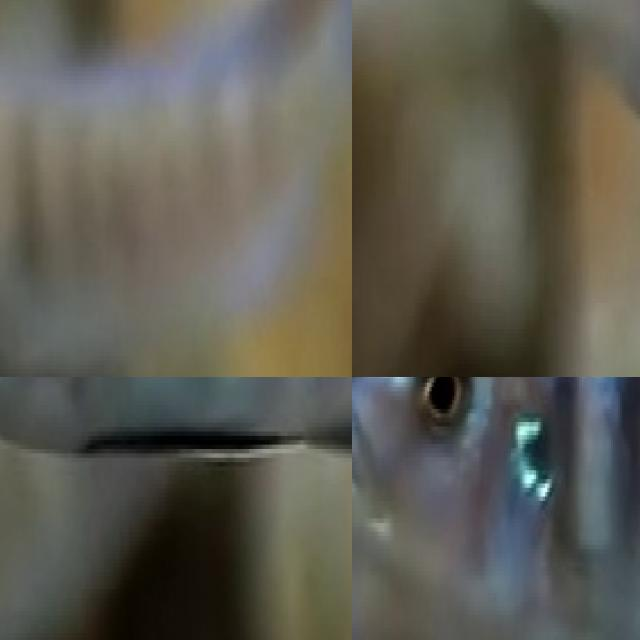fish: (0, 0, 352, 377), (0, 377, 352, 506)
